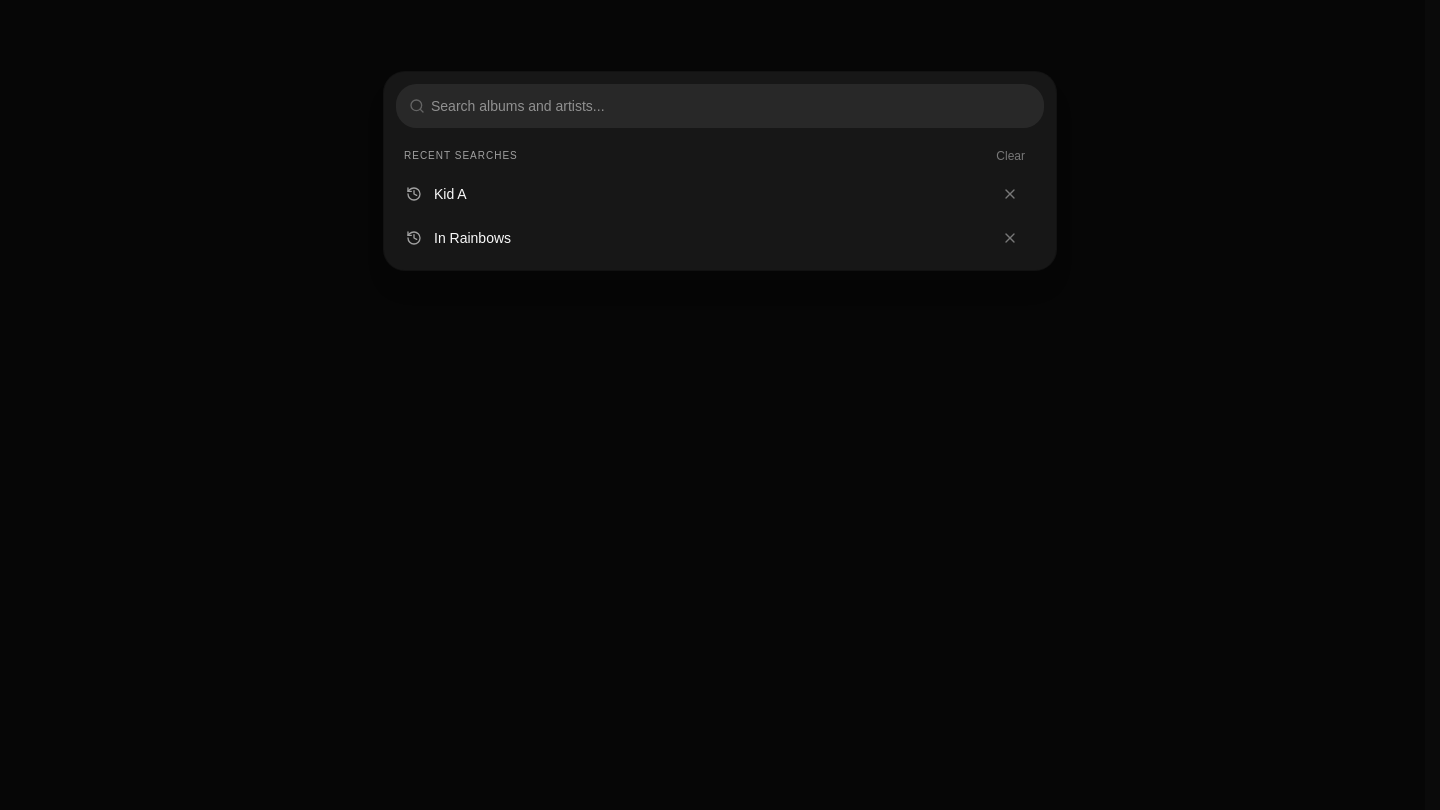
Test: GlobalSearch › clears all recent searches
The width and height of the screenshot is (1440, 810).
Click the button "Clear" at x=1011, y=156, box x1=985 y1=144 x2=1036 y2=168
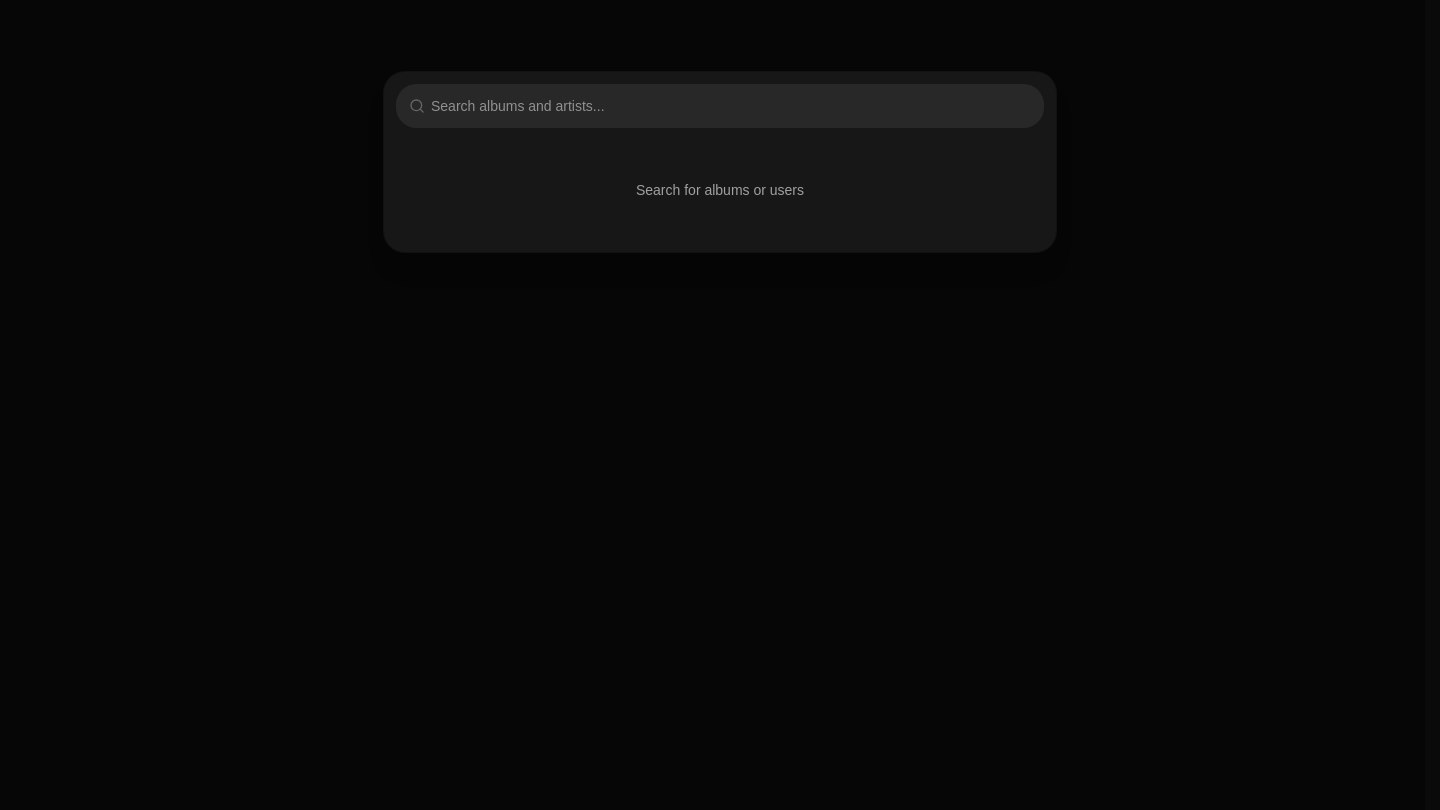
Check: the option "Kid A" is gone
Check: the option "In Rainbows" is gone
Check: the text "Search for albums or users" is shown, box x1=636 y1=182 x2=804 y2=198
